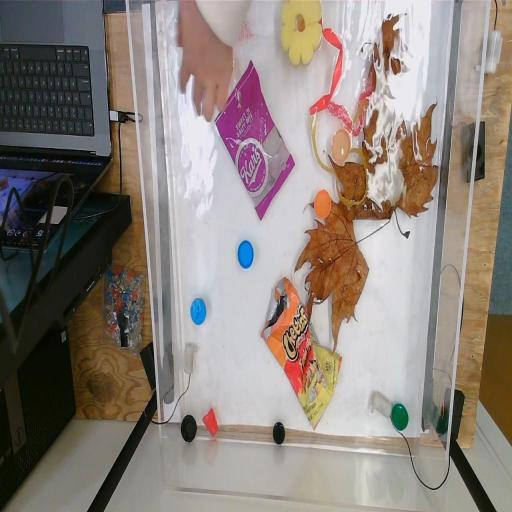Bottle Cap: (331, 128, 351, 164), (190, 296, 208, 326), (180, 414, 198, 444), (391, 402, 409, 432), (238, 240, 254, 268), (315, 190, 331, 218), (272, 421, 286, 445)
Cone Cap: (202, 409, 218, 437)
Leaf: (326, 71, 440, 240), (294, 192, 394, 350), (360, 12, 414, 74)
Netting: (328, 65, 375, 135), (231, 19, 259, 43)
Plastic Bag: (214, 58, 296, 220), (260, 276, 342, 431)
Plastic Strand: (312, 98, 372, 207), (310, 27, 344, 115)
Sponge: (280, 0, 322, 66)
